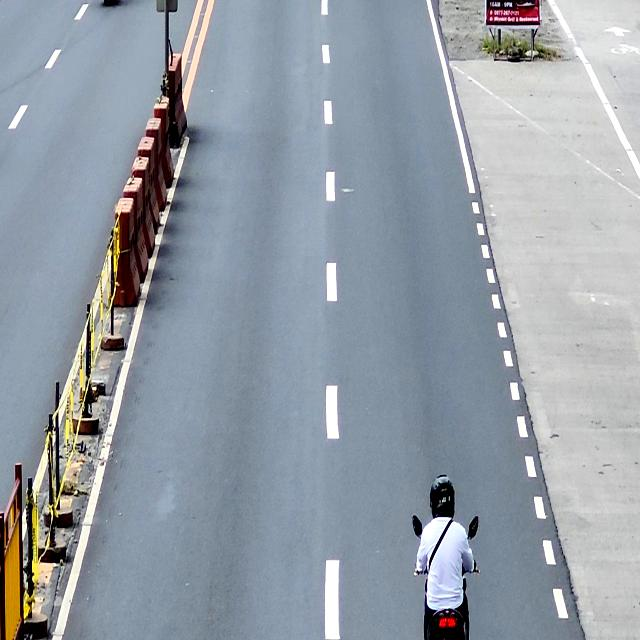Motorcycle: (412, 514, 480, 639)
